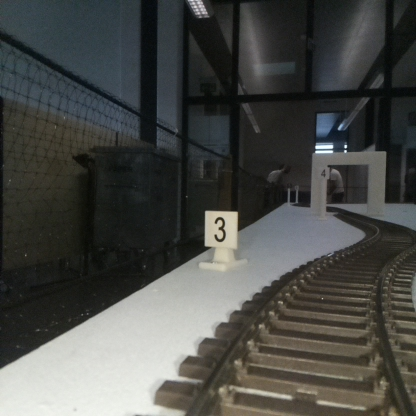white-info-4: (318, 167, 329, 214)
white-stop-3: (204, 210, 237, 269)
